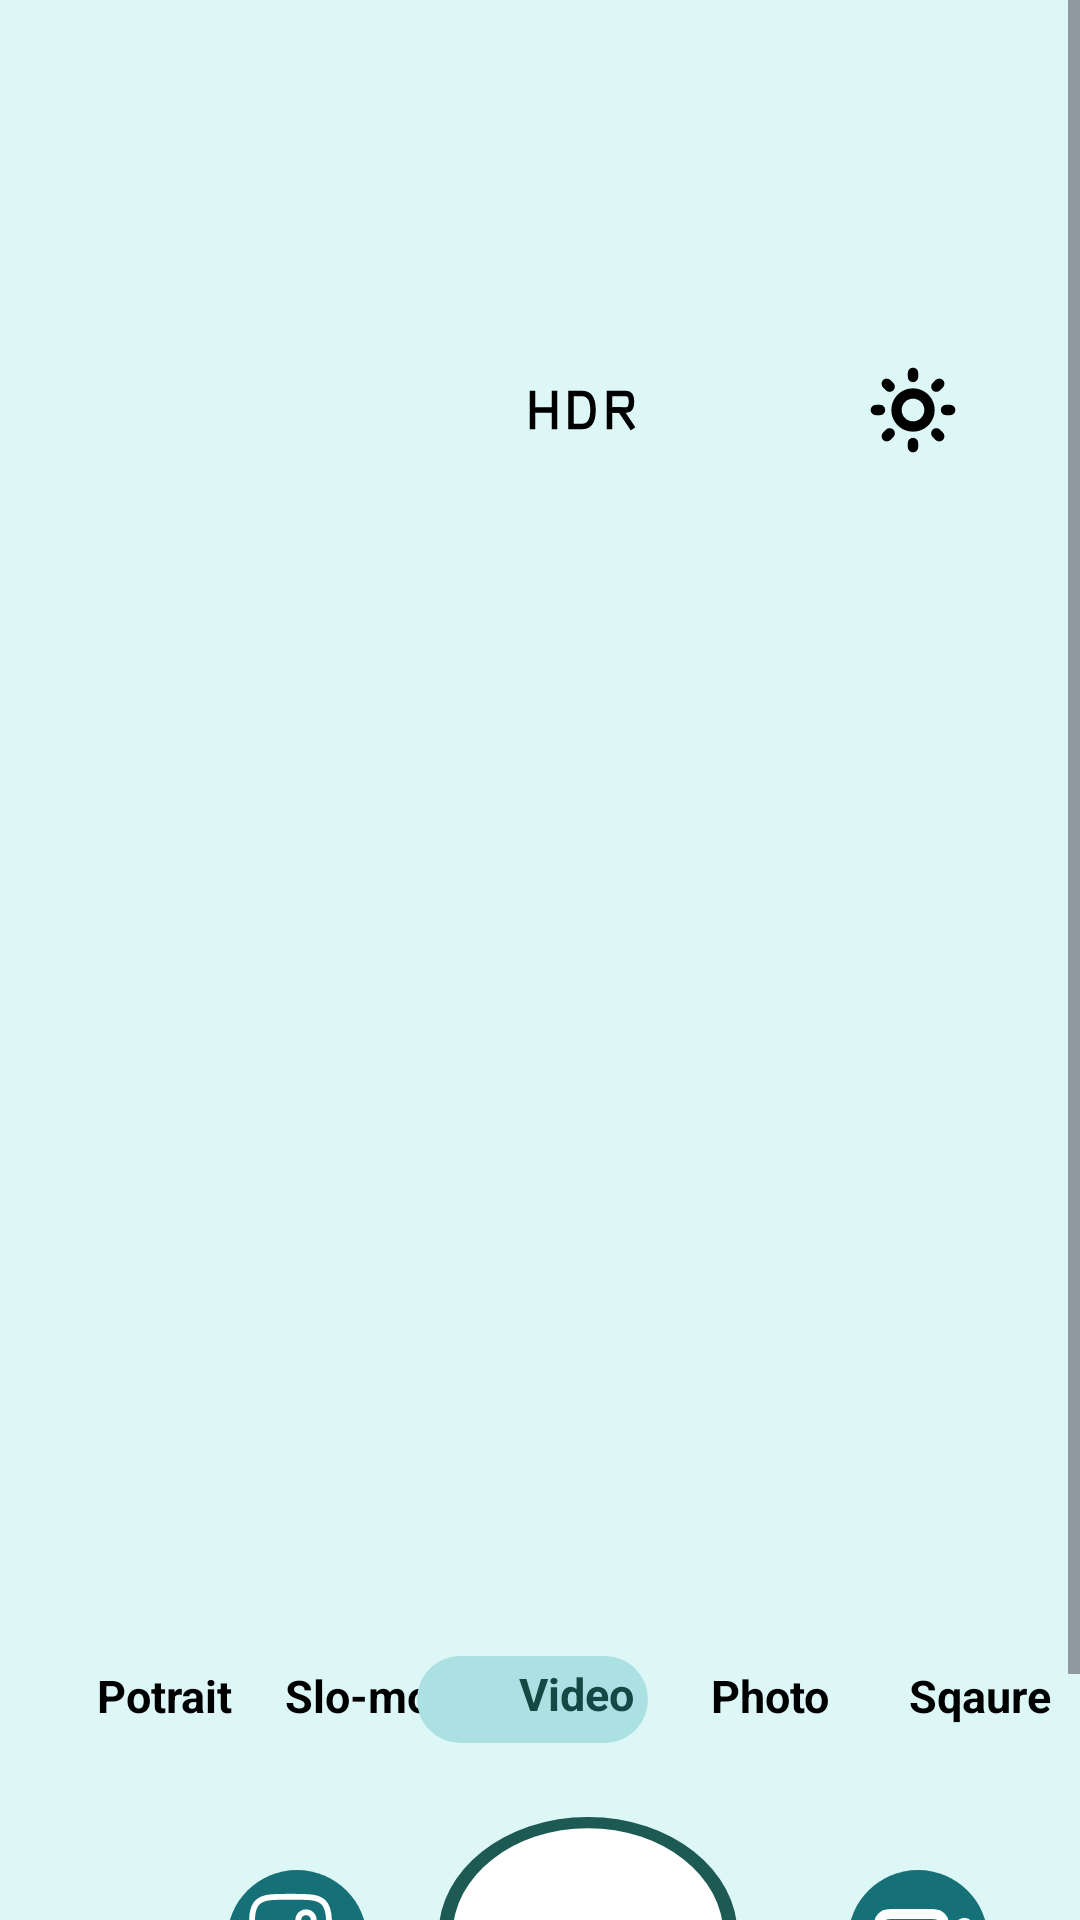

Named icons in this screenshot (1080 x 1920) and their centers, (x,y):
bright: (913,410)
